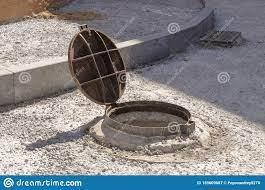open manhole-not overflowing-: (63, 24, 197, 143)
